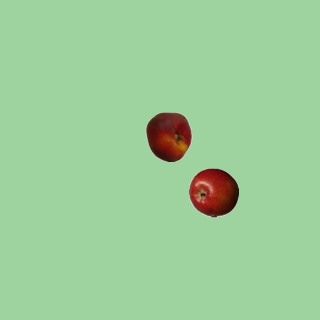Apple Braeburn: (188, 167, 238, 217)
Nectarine Flat: (143, 111, 193, 161)
